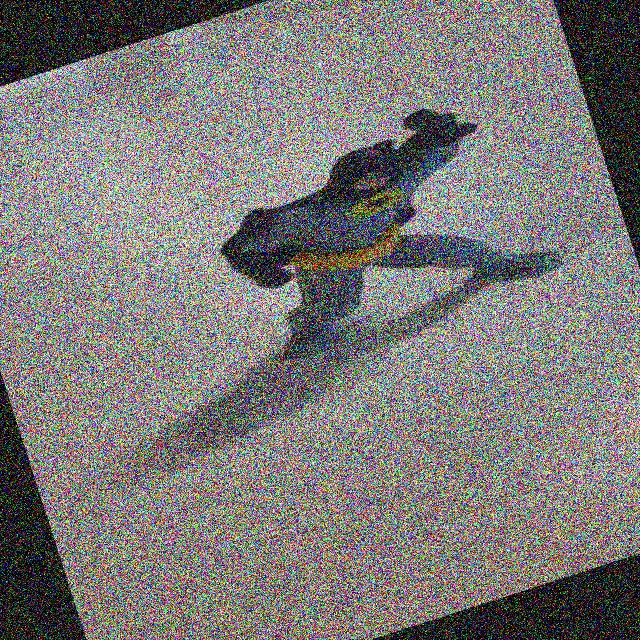Batman: (122, 67, 582, 439)
